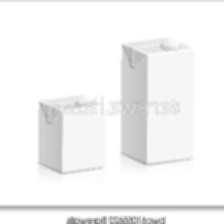carton: (115, 30, 201, 167), (28, 88, 110, 179)
